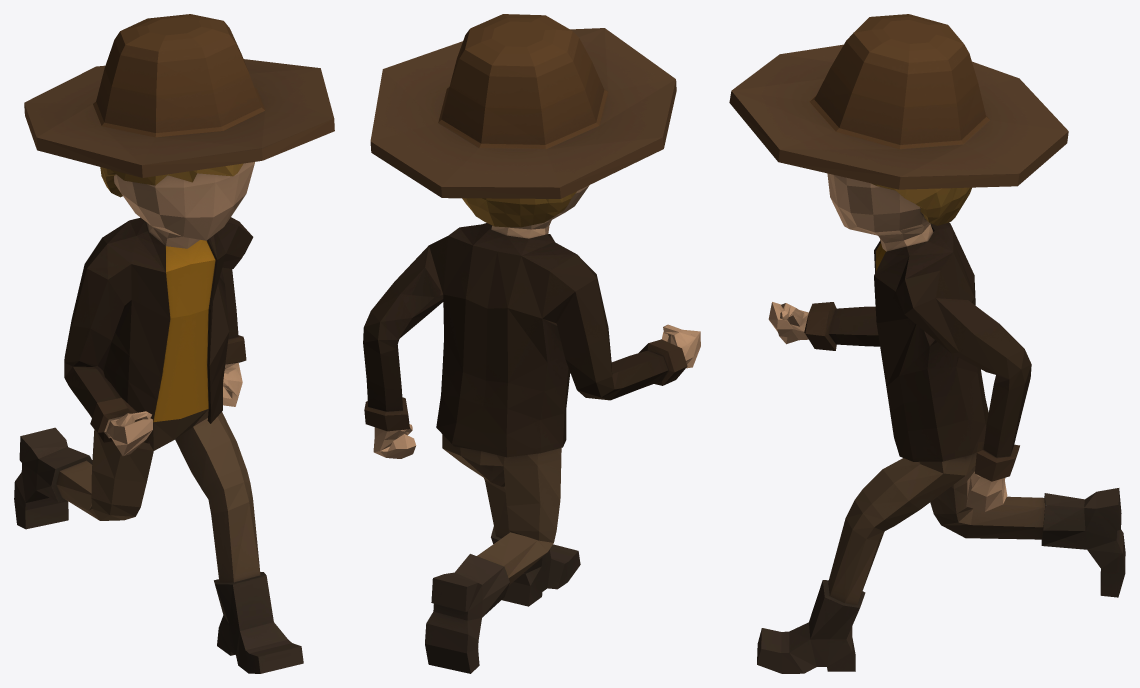
The model's file is run 01.obj.
3 renders of one model, left to right at view 1: azimuth 30°, elevation 25°; view 2: azimuth 150°, elevation 25°; view 3: azimuth 270°, elevation 25°, orthographic. The views are drawn at different scales.
Visible parts, largest first — view 1: Character_Cube; view 2: Character_Cube; view 3: Character_Cube.
Boxes of the visible parts, x1=… form: Character_Cube: x1=14, y1=14, x2=334, y2=673; Character_Cube: x1=363, y1=14, x2=700, y2=673; Character_Cube: x1=729, y1=14, x2=1125, y2=673.
Size of the model in its own units: 7.15 by 14.58 by 8.47.
